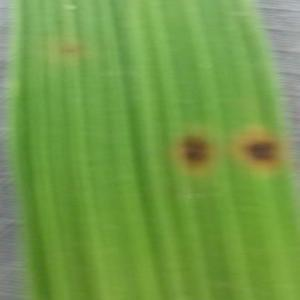Brown_Spot: (233, 121, 289, 182), (165, 123, 221, 179), (52, 35, 87, 61), (49, 14, 66, 27)
